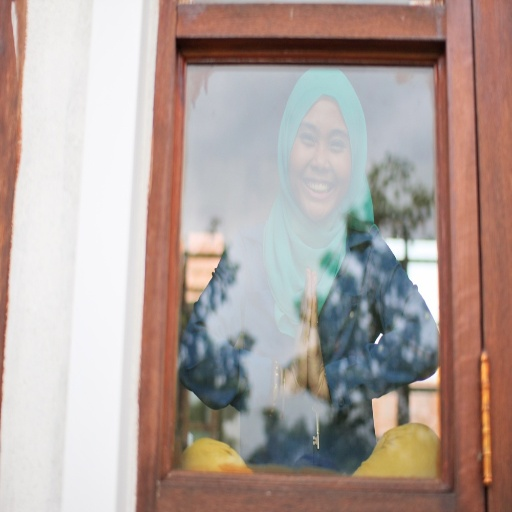hand: (280, 263, 347, 406), (307, 268, 326, 394)
